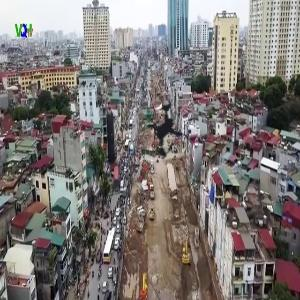drone: (117, 75, 224, 182)
